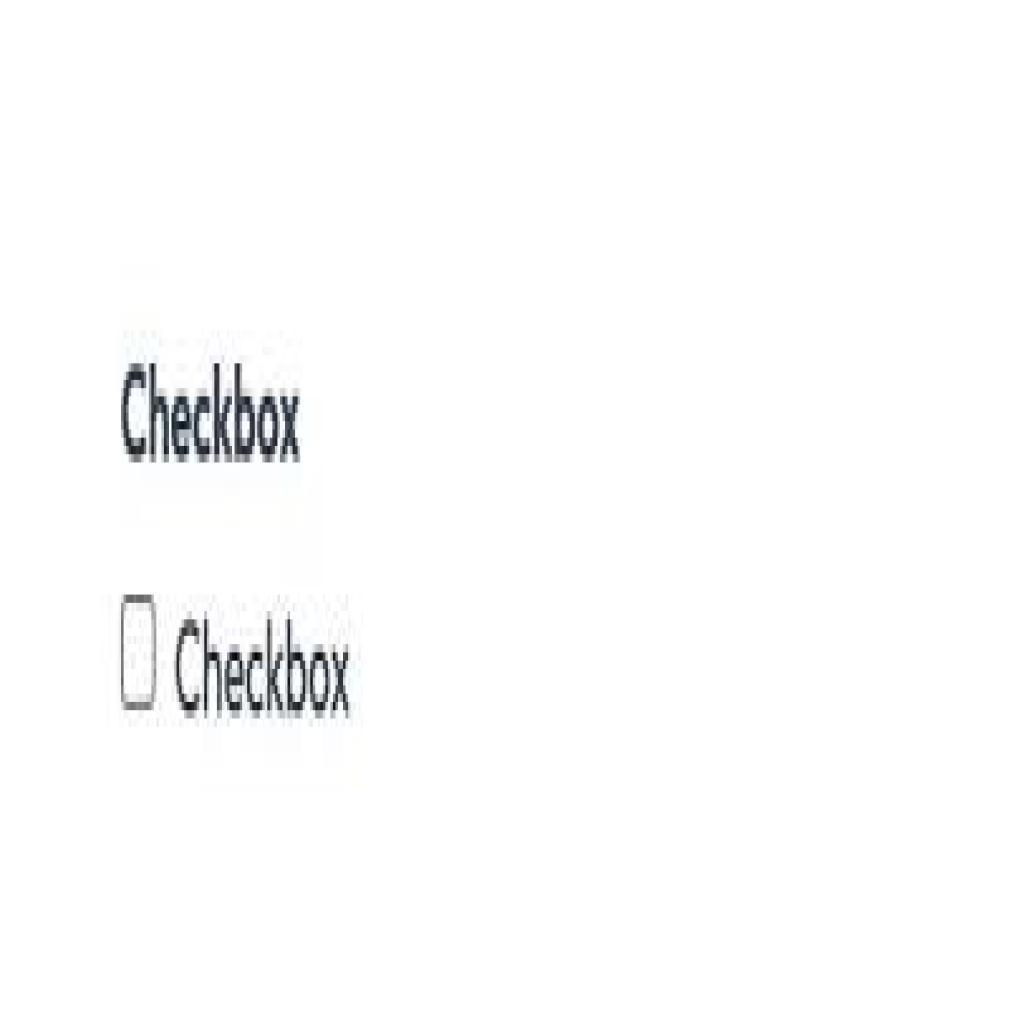checkbox: (120, 599, 157, 705)
label: (107, 362, 309, 484), (173, 615, 362, 724)
